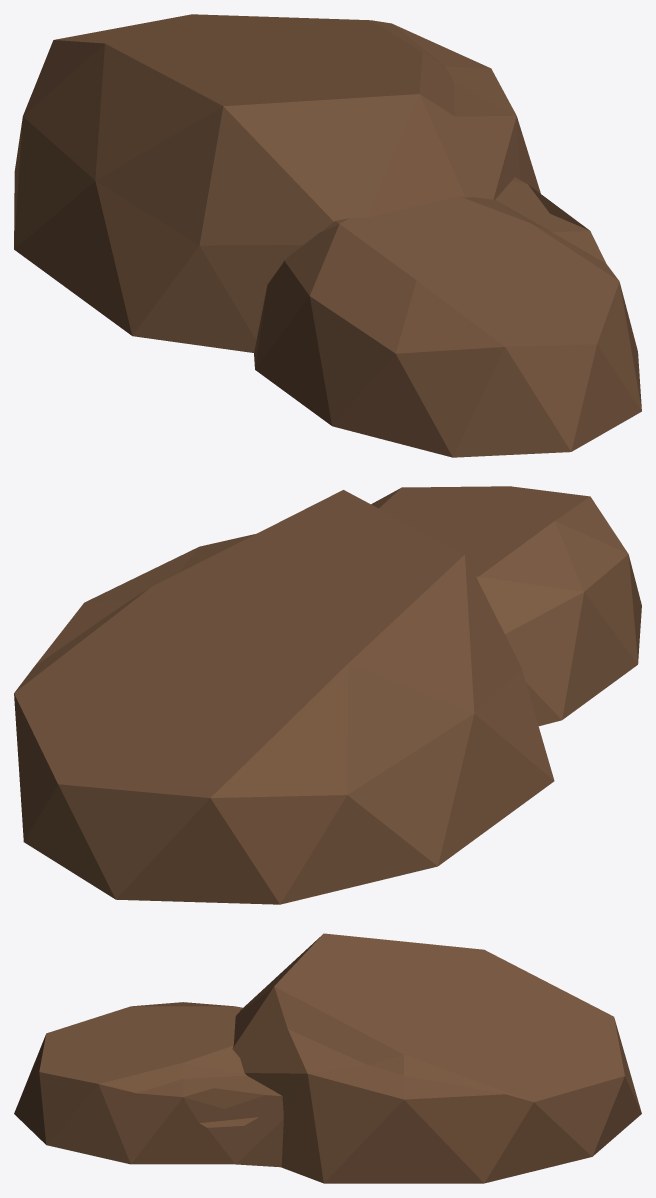
File: Stone1.fbx
3 views of the same model, one above another, from view 1: azimuth 30°, elevation 25°; view 2: azimuth 150°, elevation 25°; view 3: azimuth 270°, elevation 25° (orthographic). The views are drawn at different scales.
Visible parts, largest first — view 1: Icosphere.001; view 2: Icosphere.001; view 3: Icosphere.001.
Part boxes in pixels (x1=…): Icosphere.001: x1=14, y1=14, x2=641, y2=457; Icosphere.001: x1=14, y1=486, x2=641, y2=904; Icosphere.001: x1=14, y1=933, x2=641, y2=1183.
Bounding box in the file's own units: 79.95 × 37.71 × 152.
